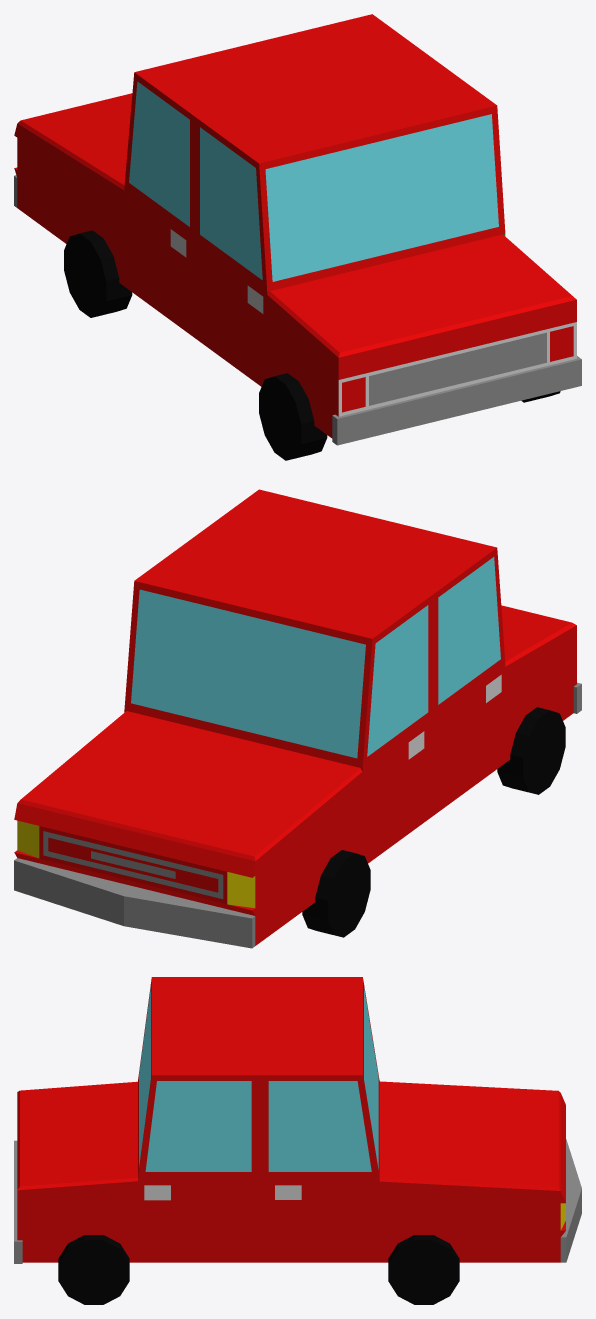
The model's file is Car_Red.fbx.
3 renders of one model, top to bottom at view 1: azimuth 30°, elevation 25°; view 2: azimuth 150°, elevation 25°; view 3: azimuth 270°, elevation 25°, orthographic. The views are drawn at different scales.
Visible parts, largest first — view 1: Model; view 2: Model; view 3: Model.
Part boxes in pixels (x1=…): Model: x1=14, y1=14, x2=581, y2=460; Model: x1=14, y1=489, x2=581, y2=948; Model: x1=14, y1=977, x2=581, y2=1304.
Size of the model in its own units: 30.34 by 29.07 by 66.76.
